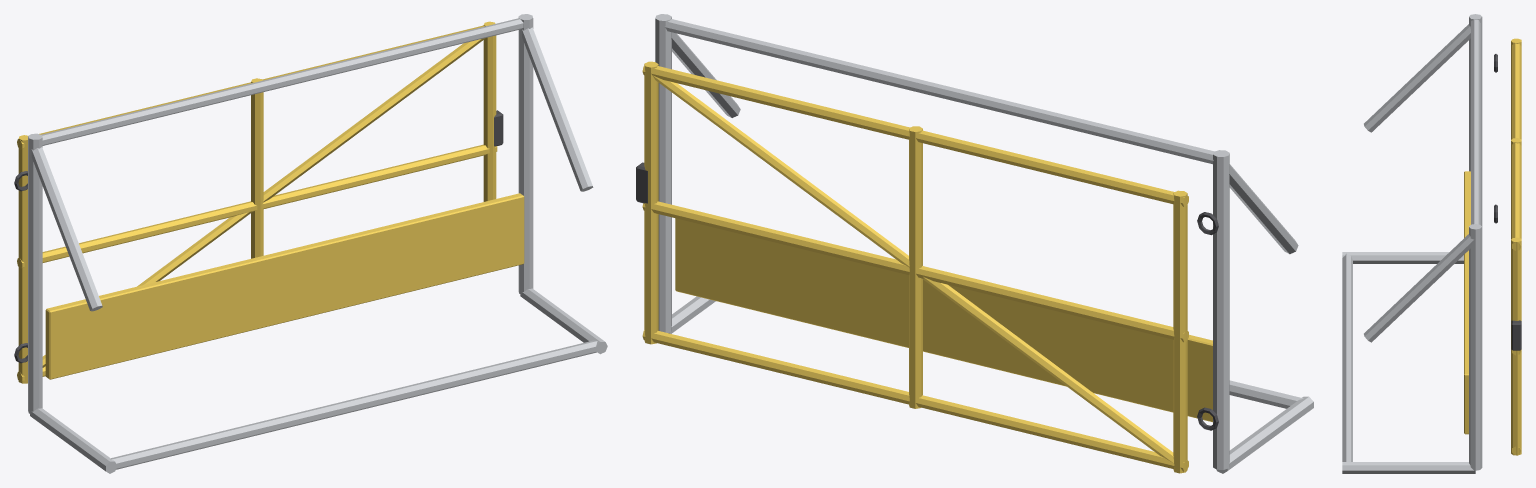
File: live-music-venue-and-festival-stage-crowd-barrier-gate-051f569f__33897.glb
3 views of the same model, side by side, from view 1: azimuth 30°, elevation 25°; view 2: azimuth 150°, elevation 25°; view 3: azimuth 270°, elevation 25° (orthographic). The views are drawn at different scales.
Visible parts, largest first — view 1: crowd-barrier-gate, gate; view 2: crowd-barrier-gate, gate; view 3: crowd-barrier-gate, gate.
Boxes of the visible parts, left/top/right/bottom form: crowd-barrier-gate: left=14, top=14, right=607, bottom=473; gate: left=17, top=21, right=497, bottom=383; crowd-barrier-gate: left=636, top=14, right=1313, bottom=473; gate: left=642, top=61, right=1188, bottom=473; crowd-barrier-gate: left=1342, top=14, right=1521, bottom=473; gate: left=1511, top=38, right=1521, bottom=455.
Size of the model in its own units: 2 by 1.06 by 0.7.
